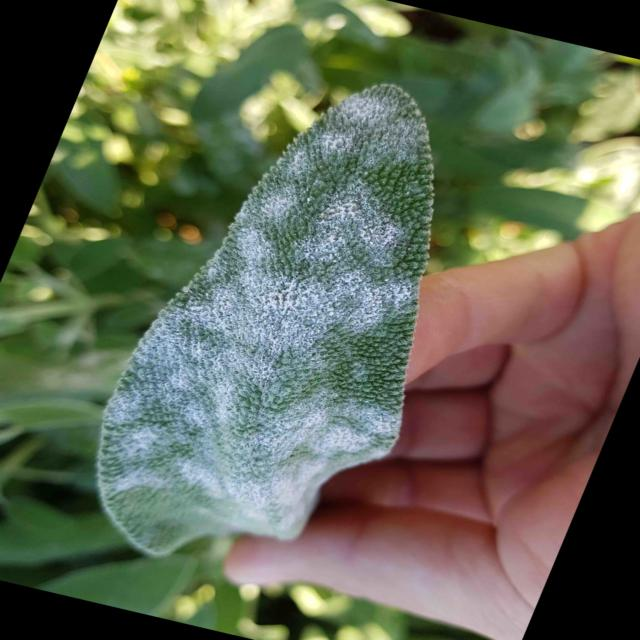Powdery Mildew: (94, 81, 437, 558)
